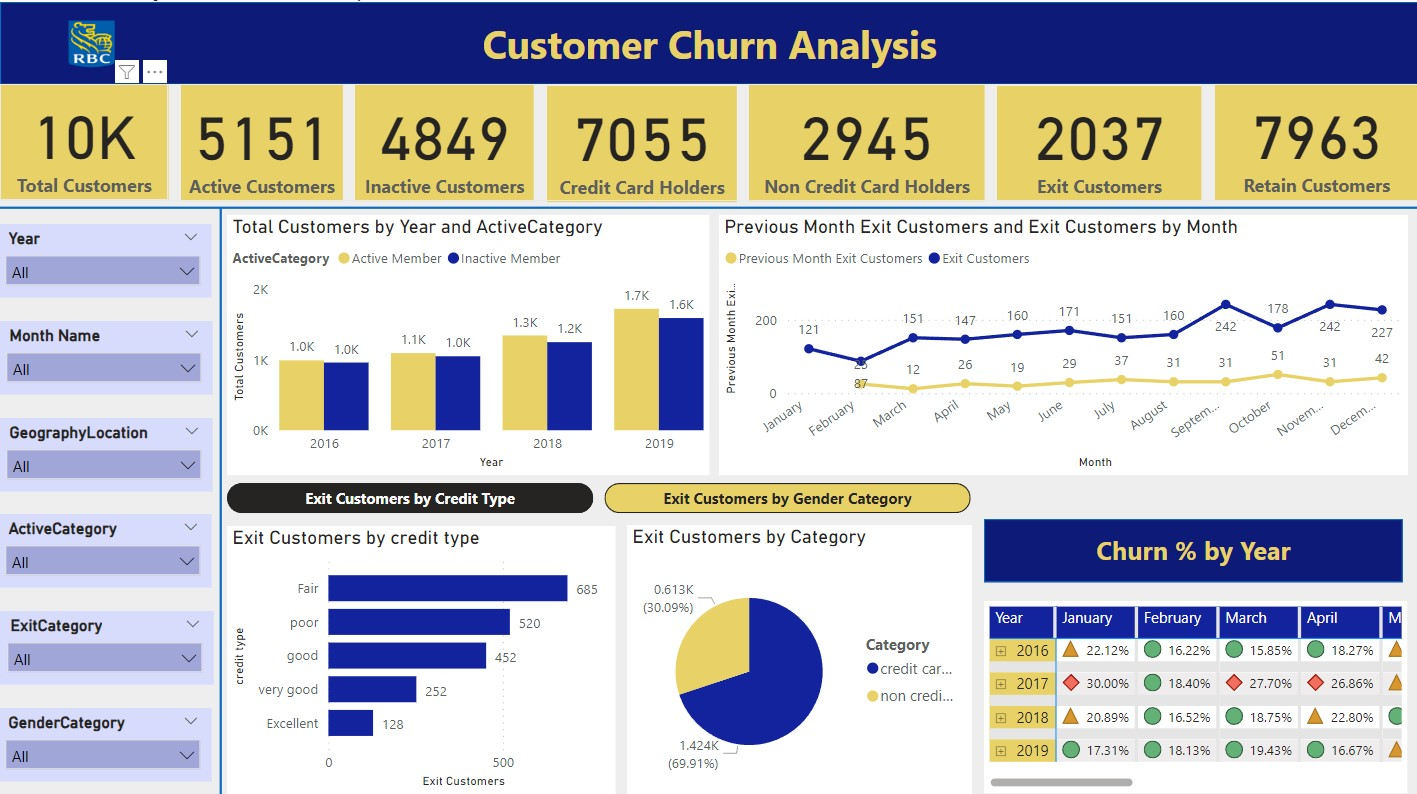

Layout of this report page (visuals, bound fields, positions):
{"tool":"powerbi","page":{"name":"Page 1","canvas":[1280,720],"ordinal":0},"visuals":[{"type":"shape","title":"da","box":[9.6,0,1271,74],"z":0},{"type":"card","fields":{"Values":["Measures Table.Active Customers"]},"box":[171.6,74.2,144.7,103.7],"z":0,"group":"g1"},{"type":"card","fields":{"Values":["Measures Table.Count of CustomerId total for ActiveCategory"]},"box":[327.6,74.8,160.4,103.7],"z":1000,"group":"g1"},{"type":"group","id":"g1","title":"Group 1","box":[9.6,73.6,1269.9,104.9],"z":1000},{"type":"image","box":[13.3,0,158,74.8],"z":2000},{"type":"card","fields":{"Values":["Measures Table.Retain Customers"]},"box":[1097.4,74.8,182.1,102.5],"z":2000,"group":"g1"},{"type":"card","fields":{"Values":["Measures Table.Credit Card Holders"]},"box":[499.2,75.4,170.1,103.7],"z":3000,"group":"g1"},{"type":"shape","box":[0,178.5,1279.6,12.1],"z":3000},{"type":"card","fields":{"Values":["Measures Table.Exit Customers"]},"box":[902.9,75.4,183.3,102.5],"z":4000,"group":"g1"},{"type":"shape","box":[201.4,184.5,12.1,535.5],"z":4000},{"type":"card","fields":{"Values":["Measures Table.Non Credit Card Holders"]},"box":[680.2,73.6,211.1,104.9],"z":5000,"group":"g1"},{"type":"slicer","fields":{"Values":["DateMaster.Year"]},"box":[4.8,199,195.4,66.3],"z":5000},{"type":"card","fields":{"Values":["Measures Table.Total Customers"]},"box":[9.6,73.6,150.8,103.7],"z":6000,"group":"g1"},{"type":"slicer","fields":{"Values":["DateMaster.Month Name"]},"box":[5.1,285.6,195.4,66.3],"z":6000},{"type":"slicer","fields":{"Values":["Geography.GeographyLocation"]},"box":[5.1,372.2,195.4,66.3],"z":7000},{"type":"slicer","fields":{"Values":["ActiveCustomer.ActiveCategory"]},"box":[4.8,458.8,195.4,66.3],"z":8000},{"type":"slicer","fields":{"Values":["ExitCustomer.ExitCategory"]},"box":[6,545.4,195.4,66.3],"z":9000},{"type":"slicer","fields":{"Values":["Gender.GenderCategory"]},"box":[4.8,632,195.4,66.3],"z":10000},{"type":"clusteredColumnChart","fields":{"Category":["DateMaster.Year","DateMaster.Month Name"],"Y":["Measures Table.Total Customers"],"Series":["ActiveCustomer.ActiveCategory"]},"box":[213.5,190.6,431.8,232.8],"z":11000},{"type":"lineChart","fields":{"Category":["DateMaster.Date.Variation.Date Hierarchy.Month"],"Y":["Measures Table.Previous Month Exit Customers","Measures Table.Exit Customers"]},"box":[653.7,190.6,617.5,232.8],"z":12000},{"type":"clusteredBarChart","fields":{"Category":["Bank_Churn.credit type"],"Y":["Measures Table.Exit Customers"]},"box":[213.6,469.6,348.2,239.9],"z":14000},{"type":"pieChart","fields":{"Category":["CreditCard.Category"],"Y":["Measures Table.Exit Customers"]},"box":[571.7,467.9,308.7,243.6],"z":15000},{"type":"pivotTable","fields":{"Rows":["DateMaster.Date.Variation.Date Hierarchy.Year","DateMaster.Date.Variation.Date Hierarchy.Quarter","DateMaster.Date.Variation.Date Hierarchy.Month","DateMaster.Date.Variation.Date Hierarchy.Day"],"Columns":["DateMaster.Date.Variation.Date Hierarchy.Month"],"Values":["Measures Table.Churn %"]},"box":[891.3,536.7,378.7,172.5],"z":16000},{"type":"shape","title":"da","box":[891.3,463.1,375.1,56.7],"z":17000},{"type":"bookmarkNavigator","box":[213.5,430.6,666.9,27.7],"z":18000}]}

Visuals, with their boxes in screenshot pixels (x1, y1, x2, y2), scaled from the page's 1280x720 canvas onto the 1417x794 screenshot:
"da" shape: x1=11 y1=0 x2=1416 y2=82
card - Measures Table.Active Customers: x1=190 y1=82 x2=350 y2=196
card - Measures Table.Count of CustomerId total for ActiveCategory: x1=363 y1=82 x2=540 y2=197
"Group 1" group: x1=11 y1=81 x2=1416 y2=197
image: x1=15 y1=0 x2=190 y2=82
card - Measures Table.Retain Customers: x1=1215 y1=82 x2=1416 y2=196
card - Measures Table.Credit Card Holders: x1=553 y1=83 x2=741 y2=198
shape: x1=0 y1=197 x2=1416 y2=210
card - Measures Table.Exit Customers: x1=1000 y1=83 x2=1202 y2=196
shape: x1=223 y1=203 x2=236 y2=793
card - Measures Table.Non Credit Card Holders: x1=753 y1=81 x2=987 y2=197
slicer - DateMaster.Year: x1=5 y1=219 x2=222 y2=293
card - Measures Table.Total Customers: x1=11 y1=81 x2=178 y2=196
slicer - DateMaster.Month Name: x1=6 y1=315 x2=222 y2=388
slicer - Geography.GeographyLocation: x1=6 y1=410 x2=222 y2=484
slicer - ActiveCustomer.ActiveCategory: x1=5 y1=506 x2=222 y2=579
slicer - ExitCustomer.ExitCategory: x1=7 y1=601 x2=223 y2=675
slicer - Gender.GenderCategory: x1=5 y1=697 x2=222 y2=770
clusteredColumnChart - DateMaster.Year x DateMaster.Month Name: x1=236 y1=210 x2=714 y2=467
lineChart - DateMaster.Date.Variation.Date Hierarchy.Month x Measures Table.Previous Month Exit Customers: x1=724 y1=210 x2=1407 y2=467
clusteredBarChart - Bank_Churn.credit type x Measures Table.Exit Customers: x1=236 y1=518 x2=622 y2=782
pieChart - CreditCard.Category x Measures Table.Exit Customers: x1=633 y1=516 x2=975 y2=785
pivotTable - DateMaster.Date.Variation.Date Hierarchy.Year x DateMaster.Date.Variation.Date Hierarchy.Quarter: x1=987 y1=592 x2=1406 y2=782
"da" shape: x1=987 y1=511 x2=1402 y2=573
bookmarkNavigator: x1=236 y1=475 x2=975 y2=505
